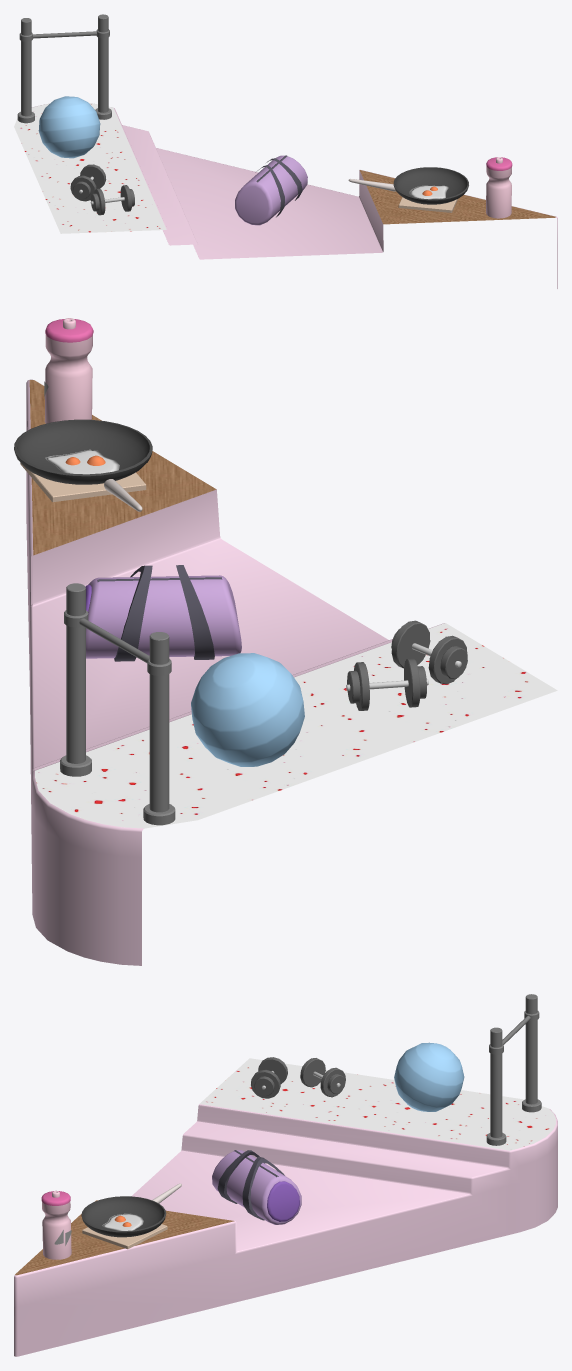
Rendered from gym-transformed.glb.
The picture shows the model from 3 angles, top to bottom: view 1: azimuth 30°, elevation 25°; view 2: azimuth 150°, elevation 25°; view 3: azimuth 270°, elevation 25°; orthographic projection. The views are drawn at different scales.
Visible parts, largest first — view 1: gymBase, gymMat, gymParquet, gymBall, gymBagMain, gymPoles, gymPanMain, gymWeightsDiscs, gymBottleMain, gymBagStraps, gymPanPlate, gymPanEggWhite; view 2: gymBase, gymMat, gymBall, gymPoles, gymBagMain, gymParquet, gymPanMain, gymWeightsDiscs, gymBottleMain, gymBagStraps, gymPanPlate, gymPanEggWhite (+1 smaller); view 3: gymBase, gymMat, gymBall, gymPoles, gymParquet, gymBagMain, gymPanMain, gymWeightsDiscs, gymBottleMain, gymBagStraps, gymBagSide, gymPanPlate (+1 smaller).
Boxes of the visible parts, left/top/right/bottom form: gymBase: left=32, top=103, right=557, bottom=288; gymMat: left=14, top=103, right=166, bottom=233; gymParquet: left=359, top=170, right=555, bottom=224; gymBall: left=38, top=96, right=100, bottom=158; gymBagMain: left=235, top=155, right=307, bottom=225; gymPoles: left=17, top=14, right=111, bottom=123; gymPanMain: left=393, top=167, right=468, bottom=204; gymWeightsDiscs: left=70, top=164, right=134, bottom=215; gymBottleMain: left=486, top=157, right=511, bottom=218; gymBagStraps: left=255, top=155, right=302, bottom=217; gymPanPlate: left=398, top=197, right=457, bottom=212; gymPanEggWhite: left=409, top=185, right=448, bottom=199; gymBase: left=26, top=379, right=444, bottom=965; gymMat: left=35, top=623, right=557, bottom=828; gymBall: left=191, top=653, right=304, bottom=766; gymPoles: left=60, top=583, right=175, bottom=825; gymBagMain: left=86, top=575, right=241, bottom=658; gymParquet: left=29, top=380, right=216, bottom=555; gymPanMain: left=14, top=419, right=152, bottom=484; gymWeightsDiscs: left=347, top=620, right=467, bottom=710; gymBottleMain: left=44, top=318, right=92, bottom=423; gymBagStraps: left=97, top=565, right=222, bottom=661; gymPanPlate: left=20, top=463, right=146, bottom=502; gymPanEggWhite: left=45, top=449, right=119, bottom=474; gymBase: left=14, top=1104, right=557, bottom=1356; gymMat: left=199, top=1058, right=555, bottom=1150; gymBall: left=394, top=1042, right=464, bottom=1111; gymPoles: left=486, top=994, right=541, bottom=1145; gymParquet: left=15, top=1200, right=234, bottom=1275; gymBagMain: left=212, top=1150, right=301, bottom=1224; gymPanMain: left=81, top=1196, right=166, bottom=1237; gymWeightsDiscs: left=251, top=1057, right=345, bottom=1098; gymBottleMain: left=42, top=1190, right=71, bottom=1259; gymBagStraps: left=217, top=1150, right=284, bottom=1220; gymBagSide: left=267, top=1181, right=299, bottom=1221; gymPanPlate: left=82, top=1224, right=167, bottom=1249.
Size of the model in its own units: 126 by 53.07 by 134.
Materials: 18 (2 with a texture image).
